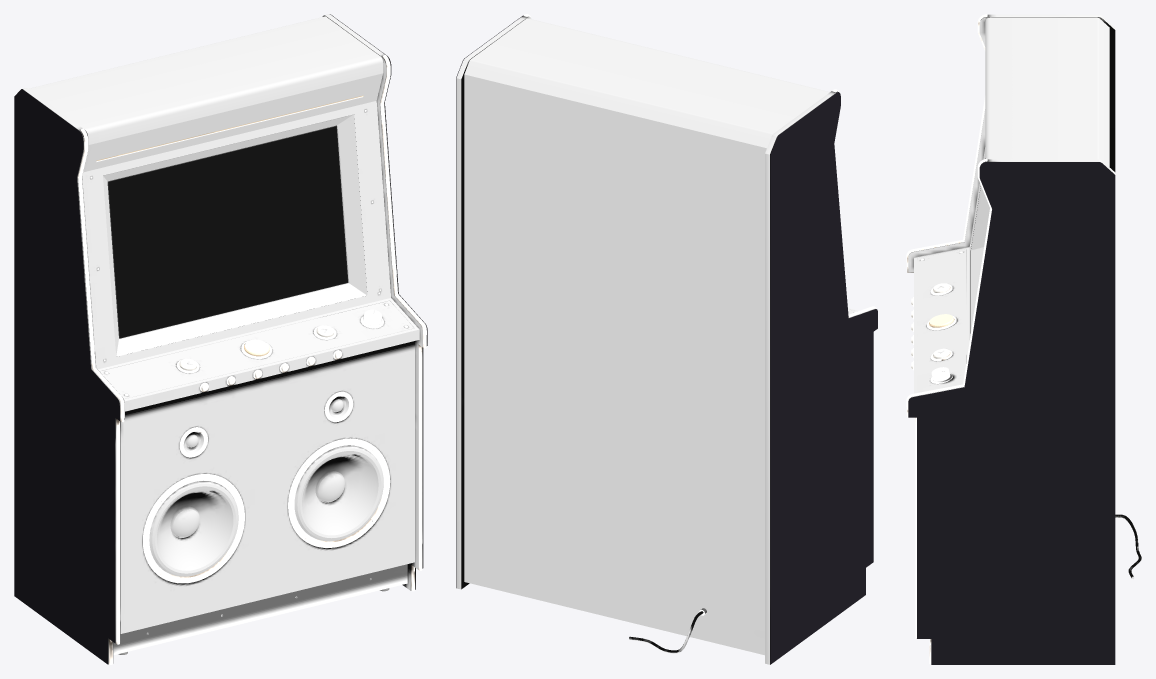
File: mach-lowlight-v2.glb
3 views of the same model, side by side, from view 1: azimuth 30°, elevation 25°; view 2: azimuth 150°, elevation 25°; view 3: azimuth 270°, elevation 25° (orthographic). The views are drawn at different scales.
Visible parts, largest first — view 1: body, side_art_l, screen, glass, trim, side_art_r; view 2: body, side_art_l; view 3: side_art_r, body, trim, start_0.
Part boxes in pixels (x1=…): body: x1=22, y1=14, x2=427, y2=664; side_art_l: x1=14, y1=89, x2=119, y2=664; screen: x1=108, y1=126, x2=347, y2=337; glass: x1=109, y1=127, x2=348, y2=338; trim: x1=78, y1=54, x2=426, y2=664; side_art_r: x1=330, y1=14, x2=427, y2=589; body: x1=456, y1=16, x2=875, y2=664; side_art_l: x1=770, y1=92, x2=877, y2=664; side_art_r: x1=908, y1=162, x2=1115, y2=664; body: x1=908, y1=14, x2=1115, y2=400; trim: x1=906, y1=14, x2=991, y2=664; start_0: x1=927, y1=314, x2=956, y2=330.
Bounding box in the file's own units: 1.21 × 1.94 × 0.8193.
Materials: 20 (8 with a texture image).
